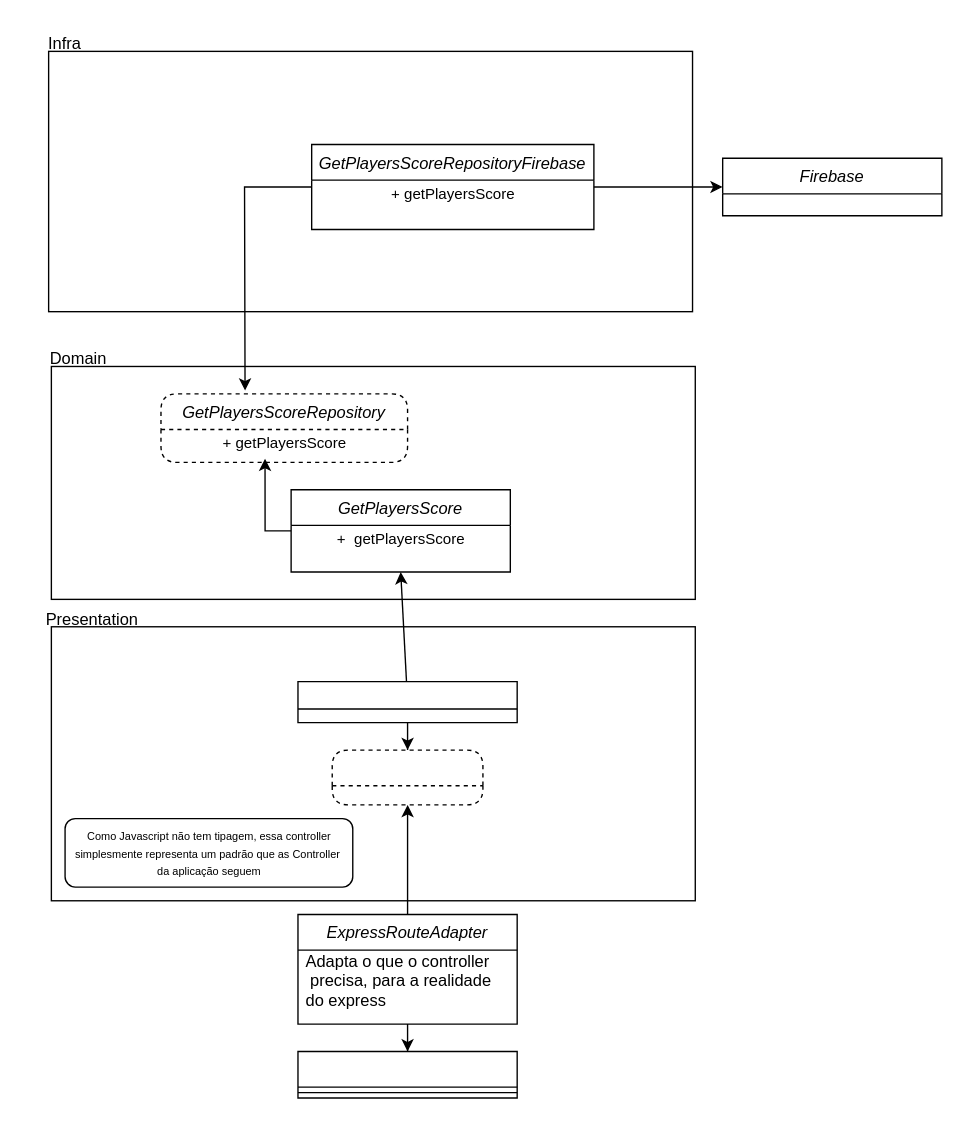
The diagram is 966 pixels wide and 1122 high, and some of its shapes have lost their labels. The shapes that lost their labels are listed below. From the top down, each one's centre as x and y in pixels, then its label:
[407,701]: GetPlayersScoreController
[407,777]: Controller
[407,1074]: Express
